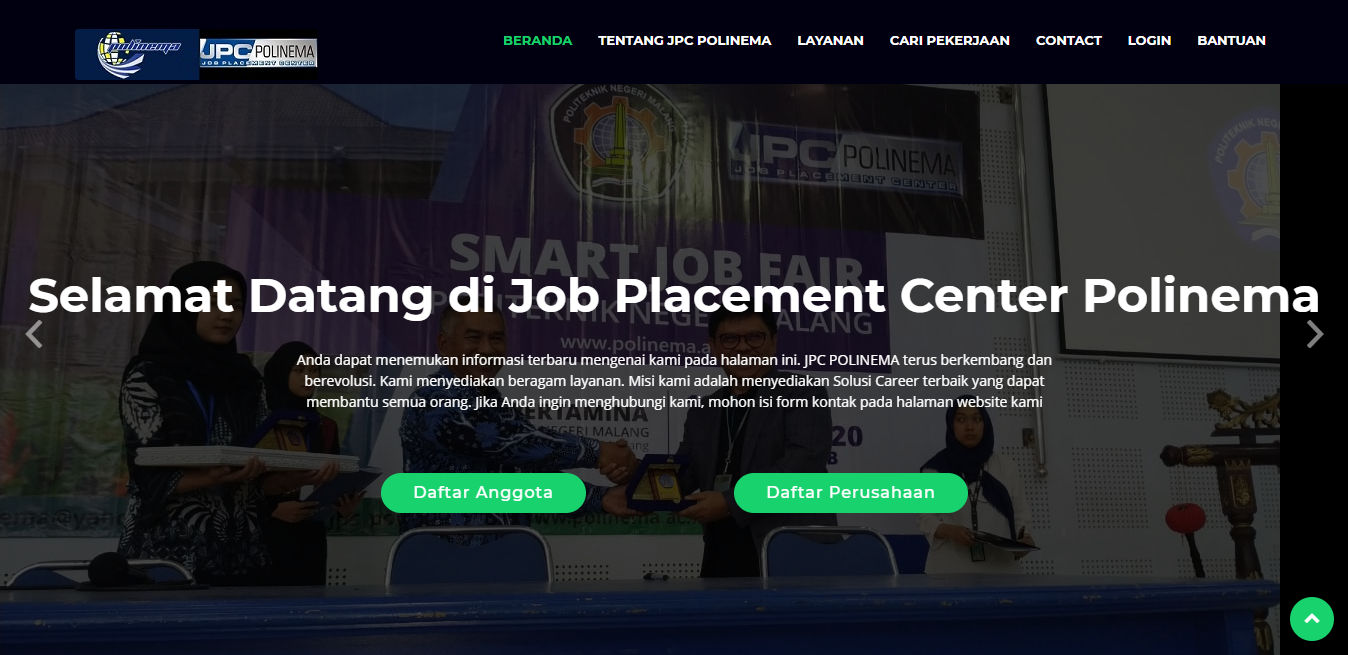Button: (730, 463, 970, 520), (380, 471, 590, 518), (1288, 596, 1342, 644)
Image: (2, 85, 1278, 655), (66, 21, 326, 87)
Menu Bar: (493, 13, 1284, 79)
